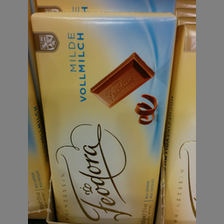chocolate: (30, 12, 176, 223)
